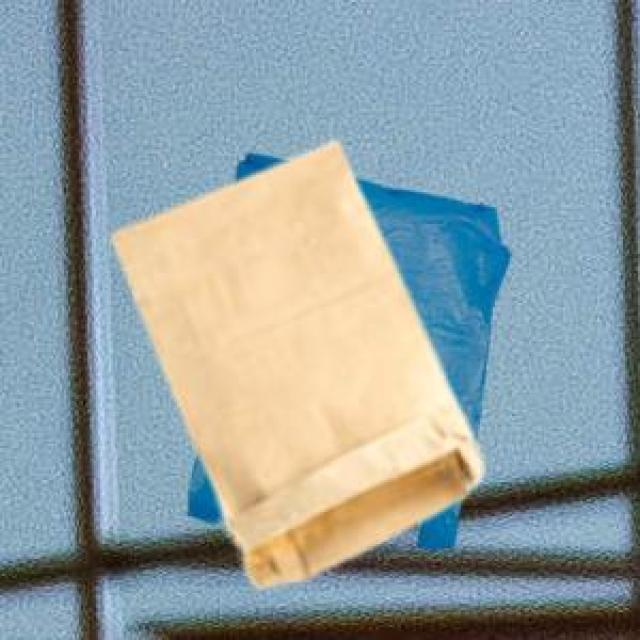paper: (109, 139, 478, 582)
